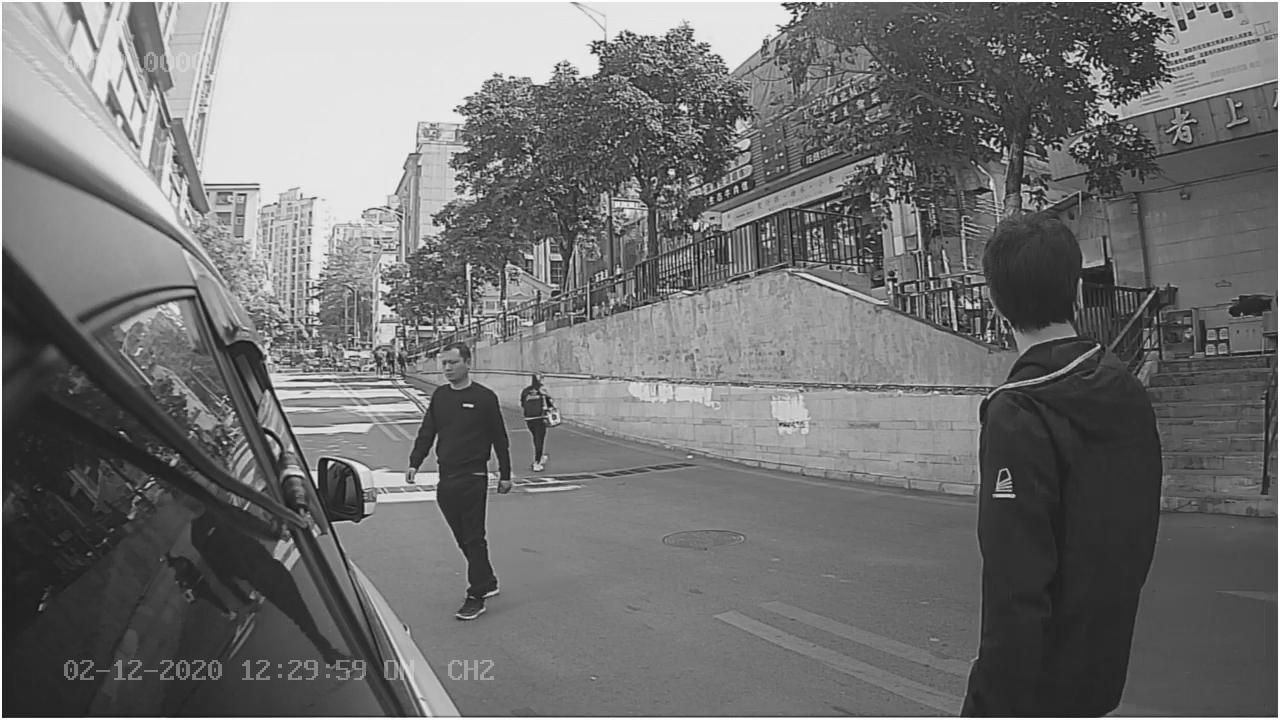person: (964, 206, 1167, 566), (400, 334, 517, 619)
